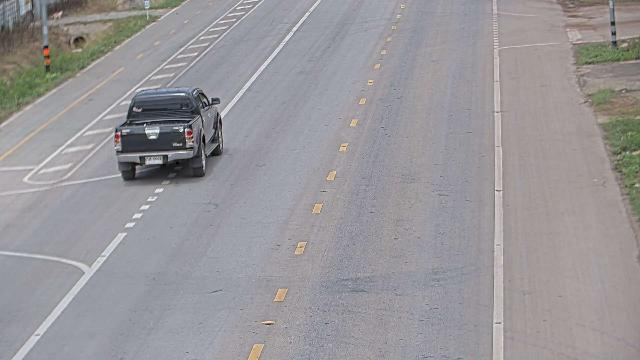pickup-truck: (113, 85, 224, 181)
